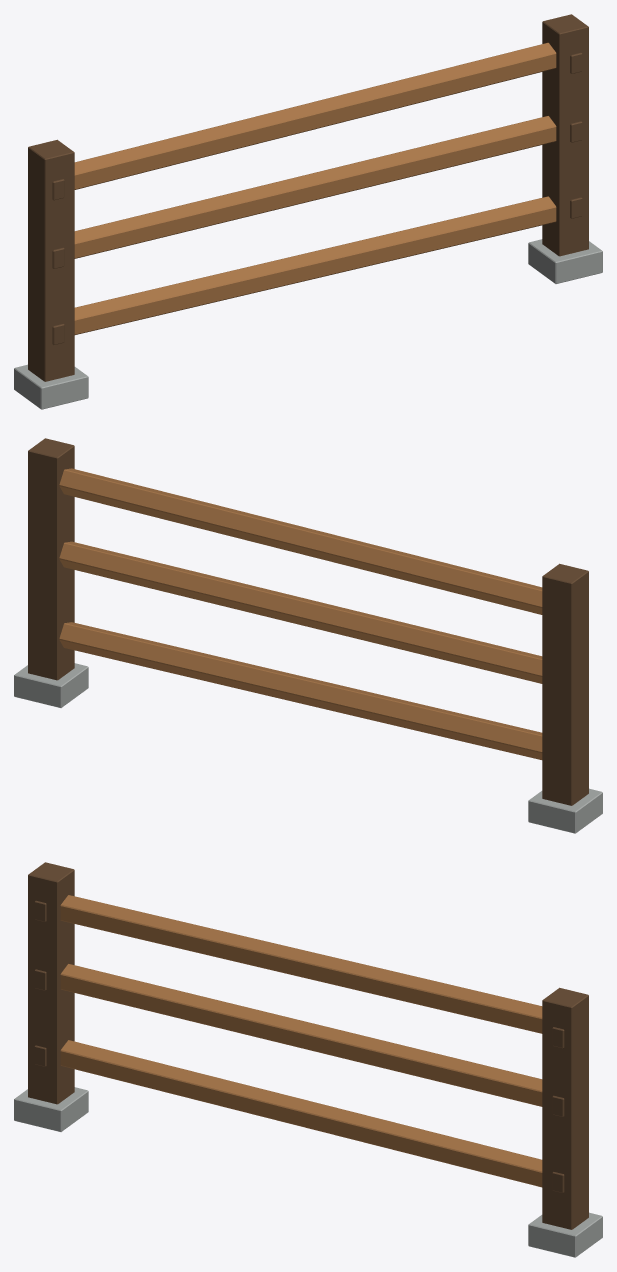
The model's file is b19_split_rail_fence.glb.
3 renders of one model, top to bottom at view 1: azimuth 30°, elevation 25°; view 2: azimuth 150°, elevation 25°; view 3: azimuth 330°, elevation 25°, orthographic.
Parts seen in each view (by area): view 1: b19_split_rail_fence; view 2: b19_split_rail_fence; view 3: b19_split_rail_fence.
Part boxes in pixels (x1=…): b19_split_rail_fence: x1=14, y1=14, x2=602, y2=409; b19_split_rail_fence: x1=14, y1=438, x2=602, y2=833; b19_split_rail_fence: x1=14, y1=862, x2=602, y2=1257.
Size of the model in its own units: 3.17 by 1.32 by 0.27.
